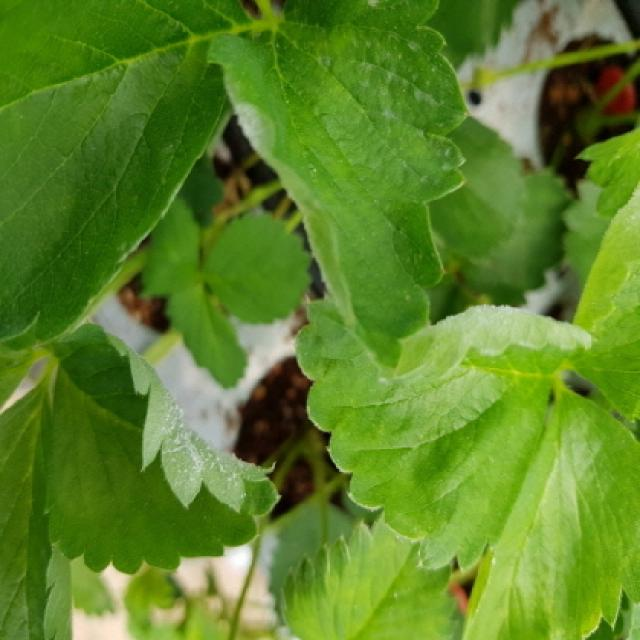Powdery Mildew Leaf: (295, 296, 597, 572), (42, 324, 281, 574)
